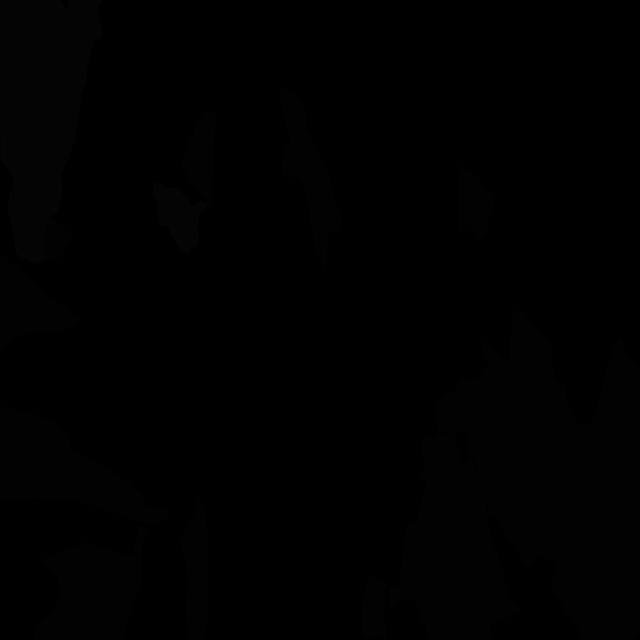cardboard: (414, 436, 521, 640), (0, 405, 170, 525), (552, 439, 640, 640), (433, 340, 518, 546), (504, 308, 568, 568), (389, 432, 470, 613), (33, 527, 150, 640), (277, 83, 342, 279), (554, 374, 606, 570), (579, 337, 640, 487), (0, 252, 83, 352), (180, 492, 209, 640), (181, 111, 216, 208), (458, 163, 496, 241), (360, 573, 387, 640), (42, 217, 76, 260)
soft_plastic: (0, 0, 103, 264), (153, 182, 207, 256)
